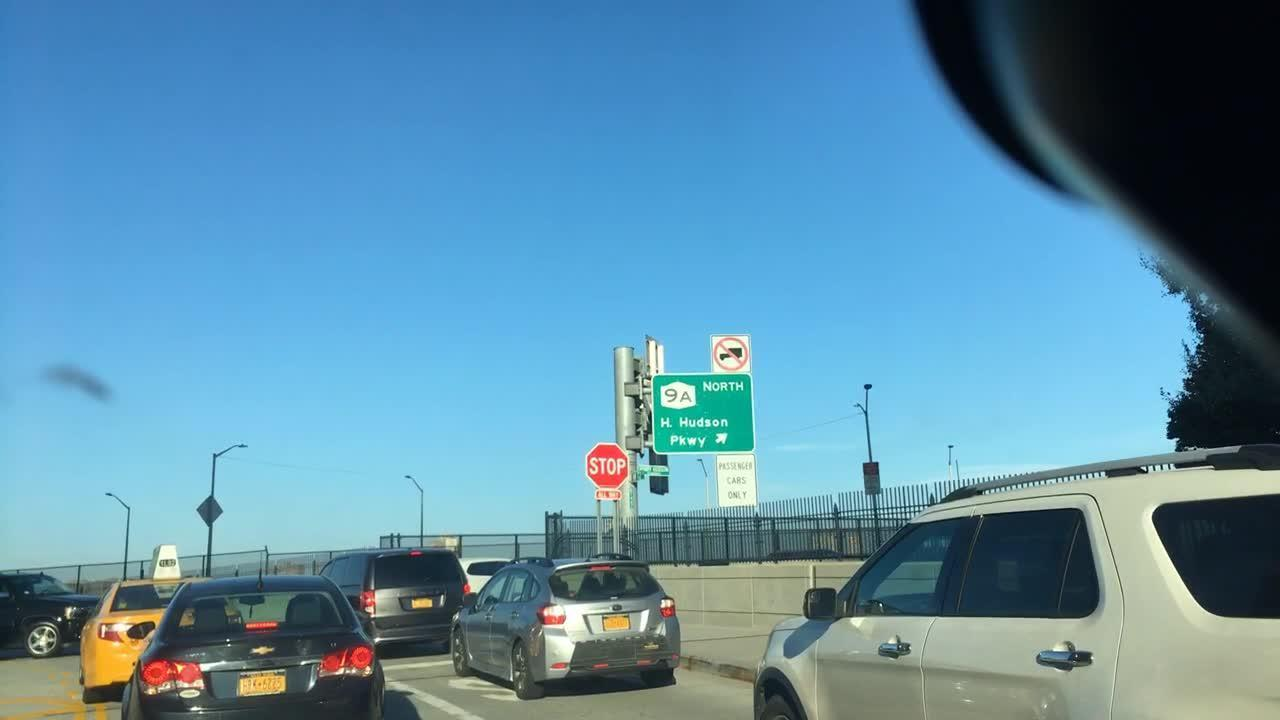chevrolet: (247, 643, 278, 659)
